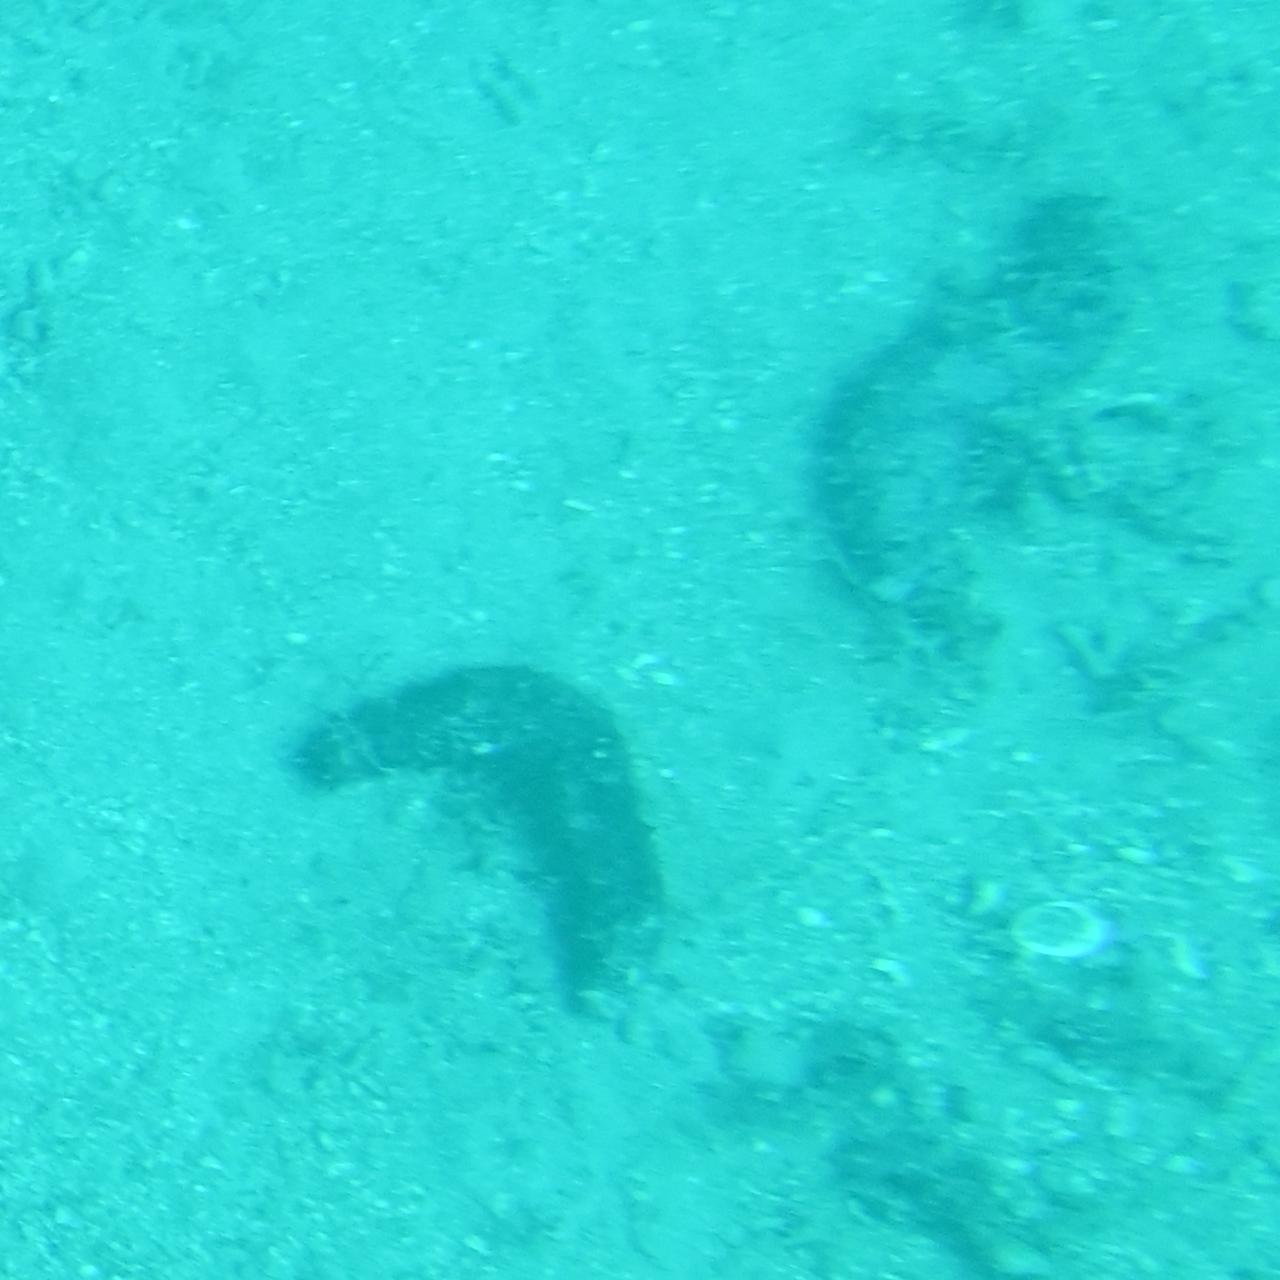Holothuria tubulosa: (824, 177, 1141, 689), (282, 647, 669, 1049)
